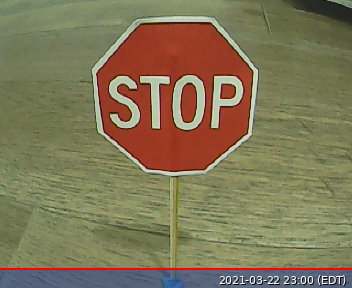Stop: (91, 15, 258, 175)
